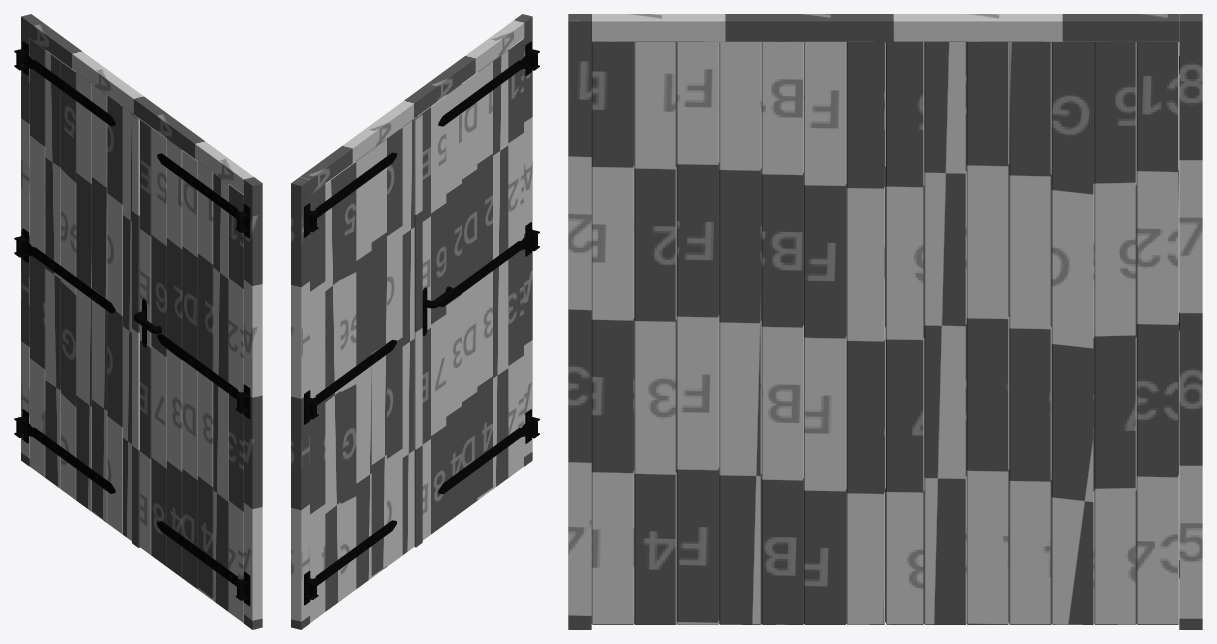
Rendered from door_double.glb.
3 views of the same model, side by side, from view 1: azimuth 30°, elevation 25°; view 2: azimuth 150°, elevation 25°; view 3: azimuth 270°, elevation 25° (orthographic). The views are drawn at different scales.
Visible parts, largest first — view 1: double_door_wood, double_door_hingles; view 2: double_door_wood, double_door_hingles; view 3: double_door_wood.
Part boxes in pixels (bbox=[...]): double_door_wood: bbox=[21, 14, 262, 629]; double_door_hingles: bbox=[14, 41, 250, 606]; double_door_wood: bbox=[291, 14, 532, 629]; double_door_hingles: bbox=[304, 41, 539, 605]; double_door_wood: bbox=[568, 14, 1202, 629].
Bounding box in the file's own units: 0.0106 × 0.2012 × 0.1899.
Materials: 2 (1 with a texture image).
